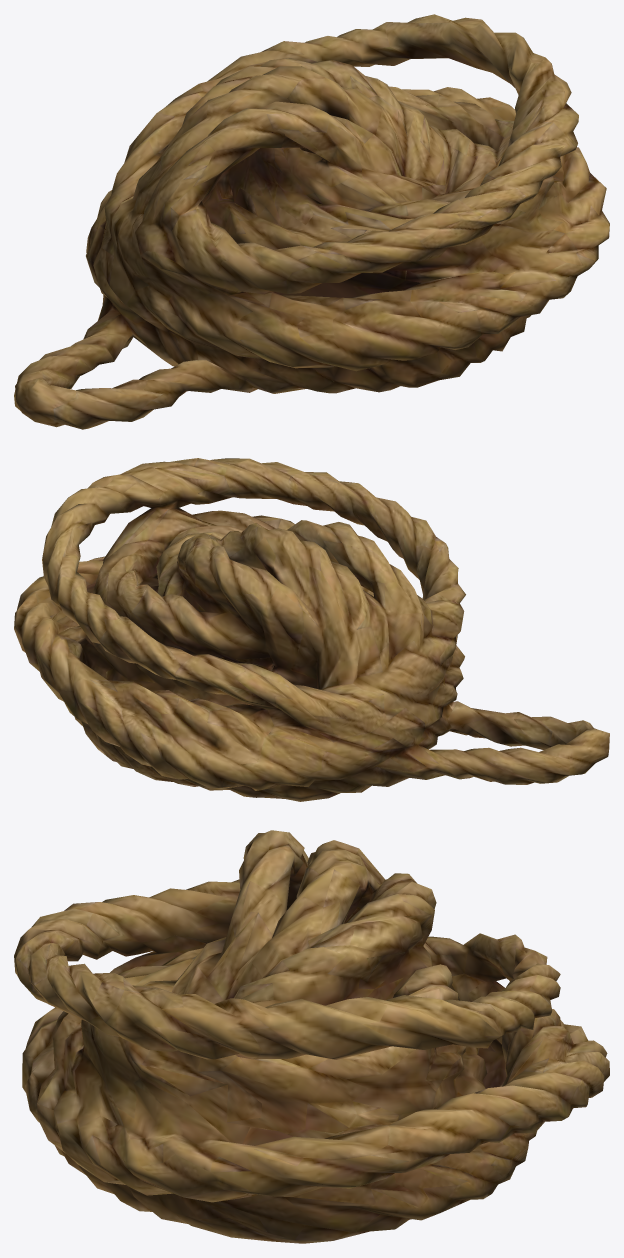
Rendered from ropecoil.glb.
3 renders of one model, top to bottom at view 1: azimuth 30°, elevation 25°; view 2: azimuth 150°, elevation 25°; view 3: azimuth 270°, elevation 25°, orthographic. The views are drawn at different scales.
Visible parts, largest first — view 1: Mesh_0; view 2: Mesh_0; view 3: Mesh_0.
Boxes of the visible parts, x1=… form: Mesh_0: x1=14, y1=14, x2=609, y2=429; Mesh_0: x1=14, y1=458, x2=609, y2=801; Mesh_0: x1=14, y1=830, x2=609, y2=1243.
Size of the model in its own units: 1.89 by 0.7319 by 1.43.
Materials: 1 (1 with a texture image).
